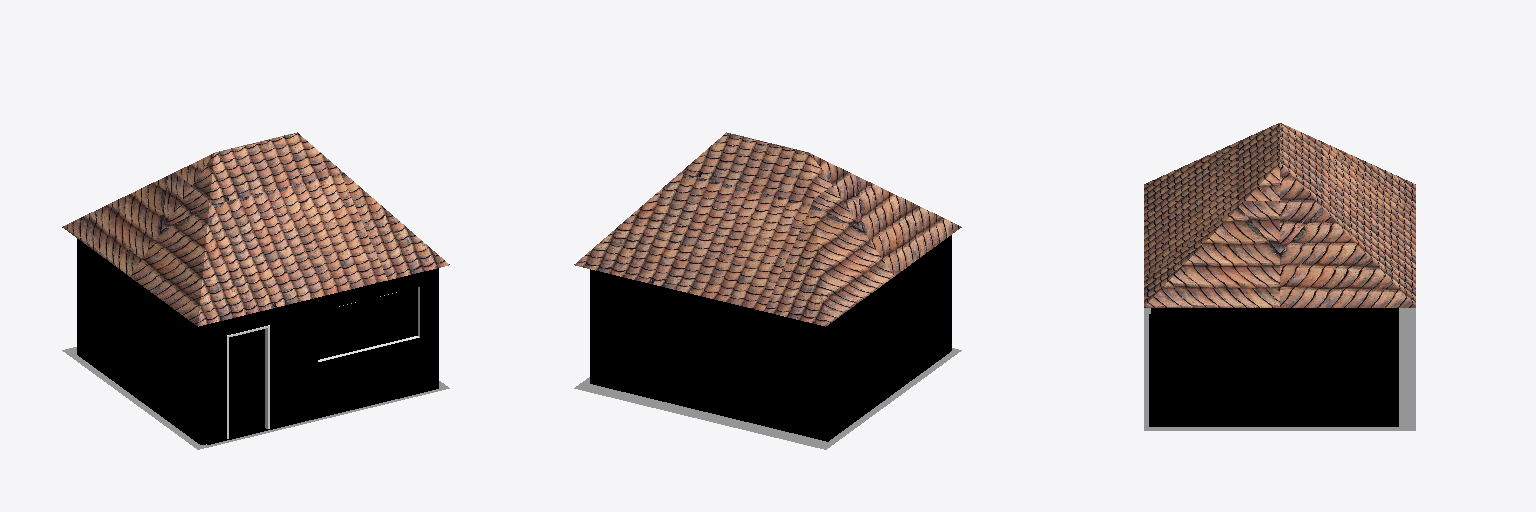
3 views of the same model, side by side, from view 1: azimuth 30°, elevation 25°; view 2: azimuth 150°, elevation 25°; view 3: azimuth 270°, elevation 25° (orthographic).
Visible parts, largest first — view 1: polySurface2; view 2: polySurface2; view 3: polySurface2.
Boxes of the visible parts, x1=… form: polySurface2: x1=62, y1=132, x2=449, y2=449; polySurface2: x1=574, y1=132, x2=961, y2=449; polySurface2: x1=1144, y1=123, x2=1415, y2=430.
Size of the model in its own units: 26.02 by 22.34 by 24.35.
6 materials, 1 textured.